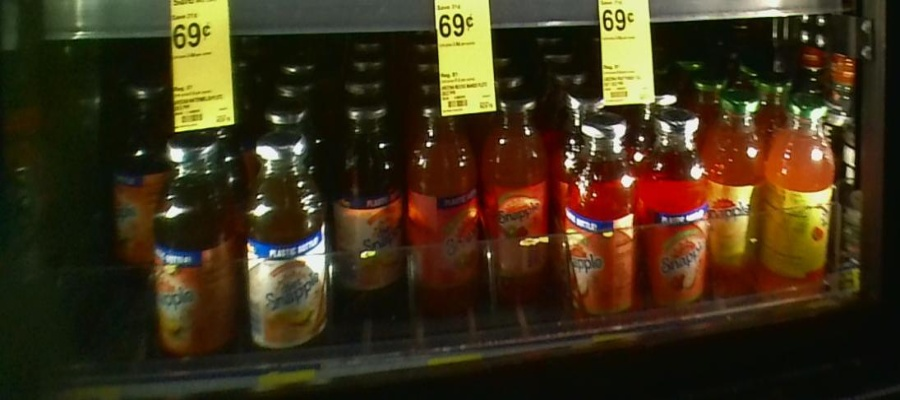bottle: (241, 127, 330, 353), (160, 133, 239, 362), (406, 104, 478, 310), (574, 97, 639, 322), (765, 86, 836, 290), (334, 94, 400, 311), (642, 103, 711, 304), (479, 98, 548, 295), (106, 78, 158, 271), (713, 94, 760, 283)
